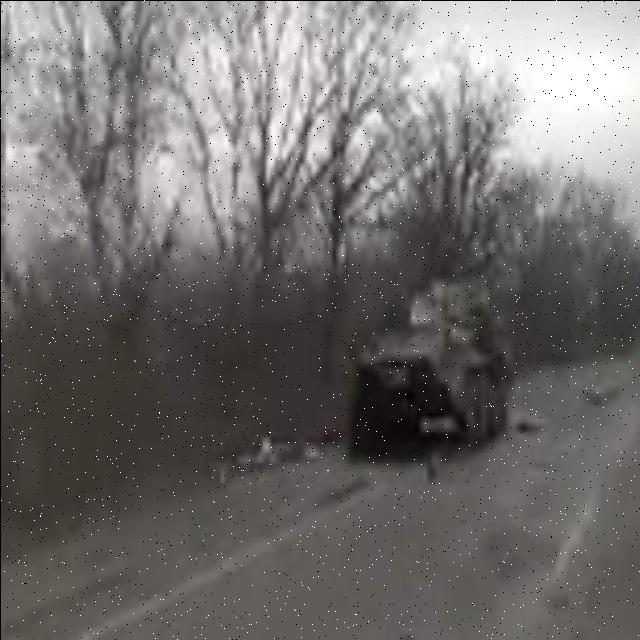APC-IFV: (338, 264, 518, 453)
